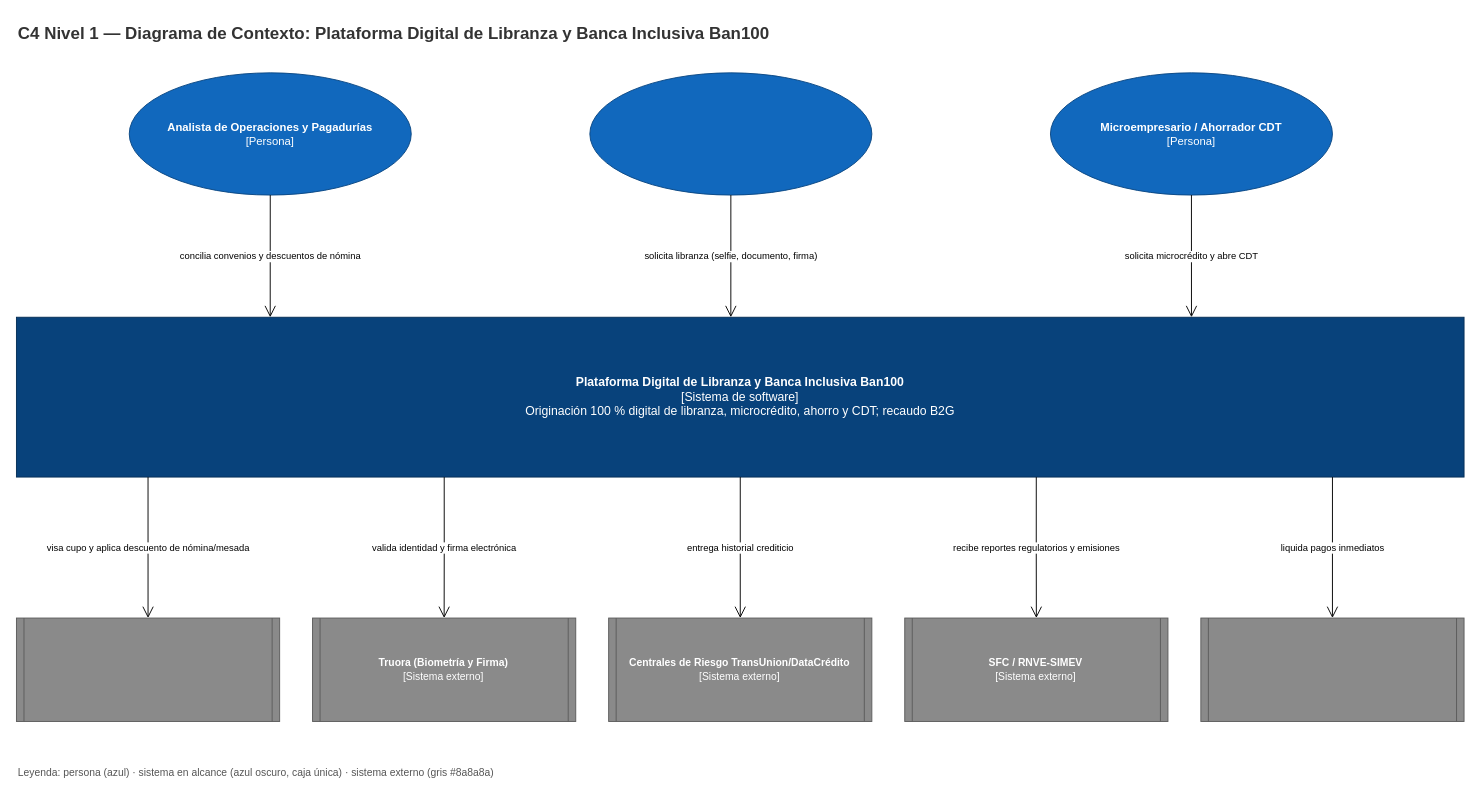
The diagram is 1481 pixels wide and 803 high, and some of its shapes have lost their labels. The box of each missing label's shape, as (x1, y1, x2, y2) in pixels:
Bre-B (Banco de la República) [Sistema externo]: (1200, 617, 1464, 721)
Pagadurías Públicas Nacionales y Territoriales [Sistema externo]: (16, 617, 280, 721)
Pensionado / Empleado Público [Persona]: (589, 72, 872, 195)
